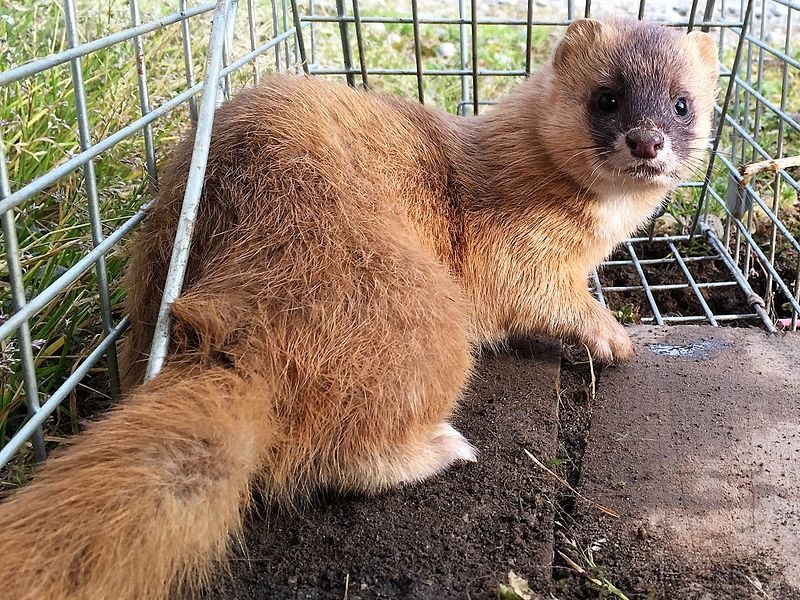minkish: (24, 22, 722, 600)
